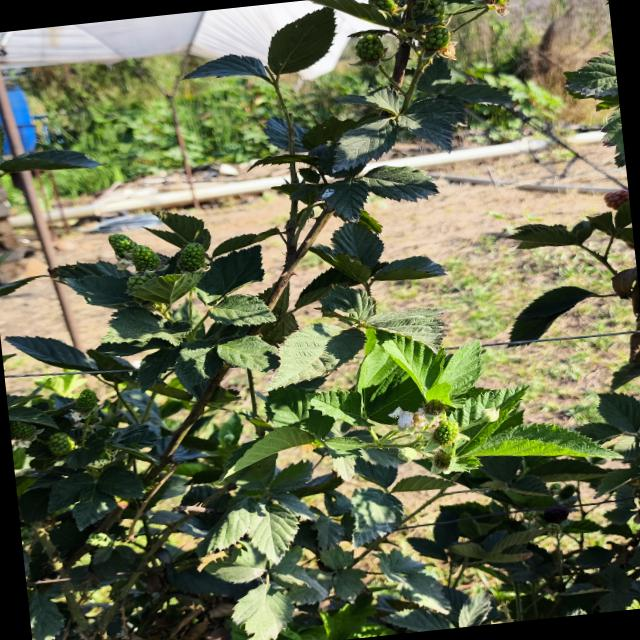boton: (398, 447, 418, 460), (481, 408, 499, 422)
flor: (388, 406, 415, 428)
verde: (355, 33, 387, 66), (179, 242, 206, 272), (131, 244, 160, 271), (431, 420, 460, 444), (423, 25, 449, 51), (108, 233, 137, 256), (48, 432, 75, 456), (9, 421, 36, 439), (76, 388, 97, 411), (127, 274, 149, 293)
